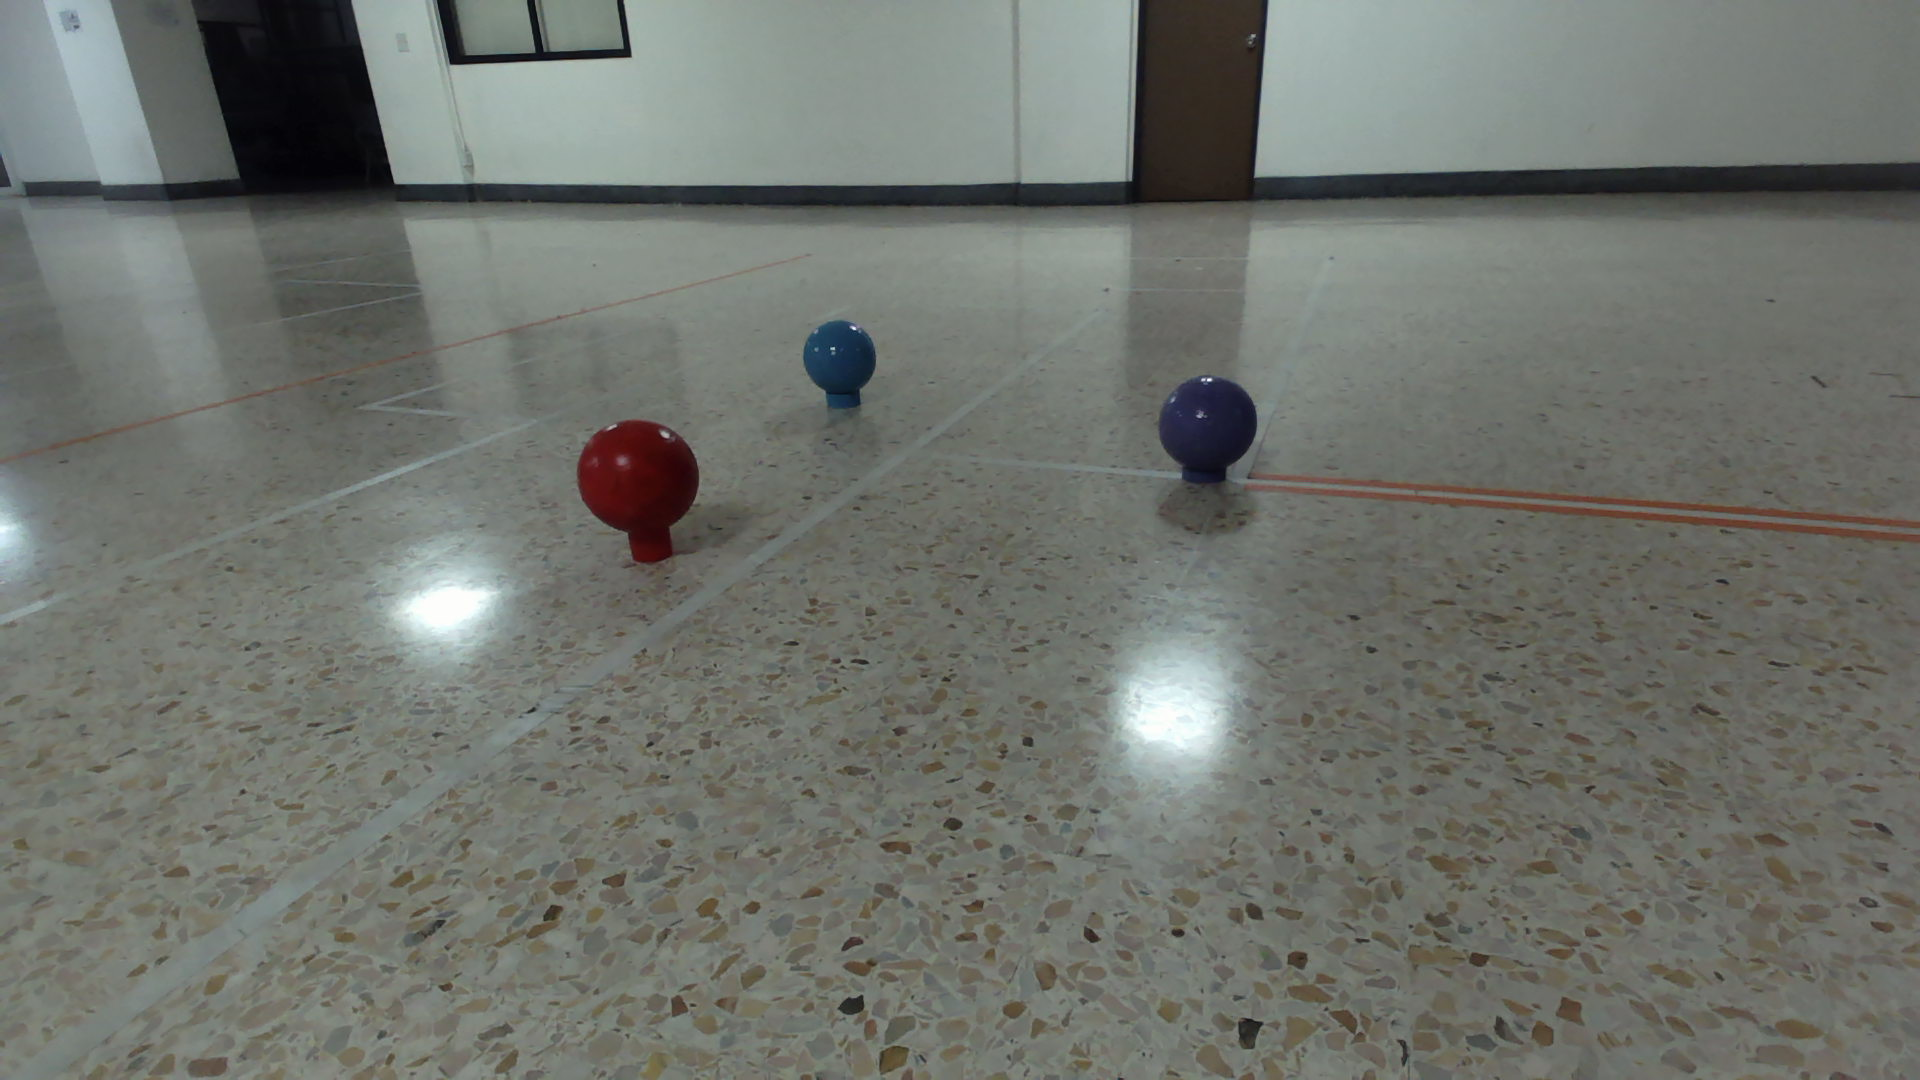Blue ball: (800, 318, 880, 396)
Purple ball: (1156, 372, 1258, 472)
Red ball: (575, 417, 702, 535)
